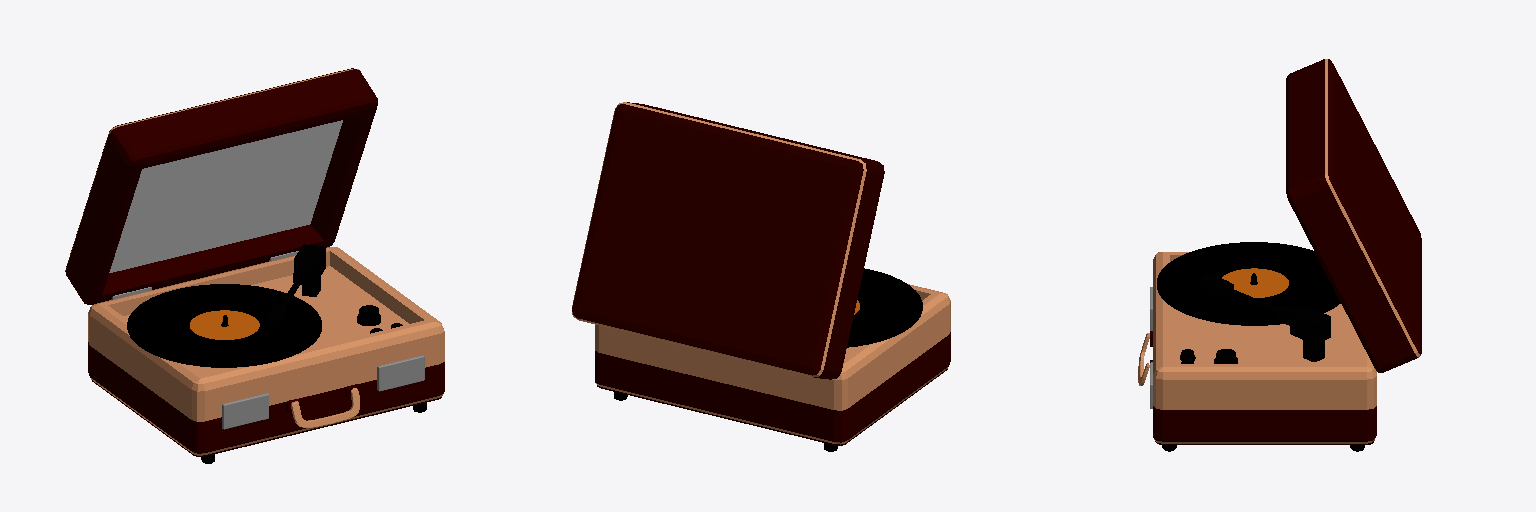
The model's file is RecordPlayer_1306.obj.
3 renders of one model, left to right at view 1: azimuth 30°, elevation 25°; view 2: azimuth 150°, elevation 25°; view 3: azimuth 270°, elevation 25°, orthographic.
Parts seen in each view (by area): view 1: ChamferCyl009; view 2: ChamferCyl009; view 3: ChamferCyl009.
Boxes of the visible parts, <box> form: ChamferCyl009: <box>65,68,444,463</box>; ChamferCyl009: <box>572,102,950,451</box>; ChamferCyl009: <box>1138,59,1421,451</box>.
Bounding box in the file's own units: 81 × 84.67 × 77.13.